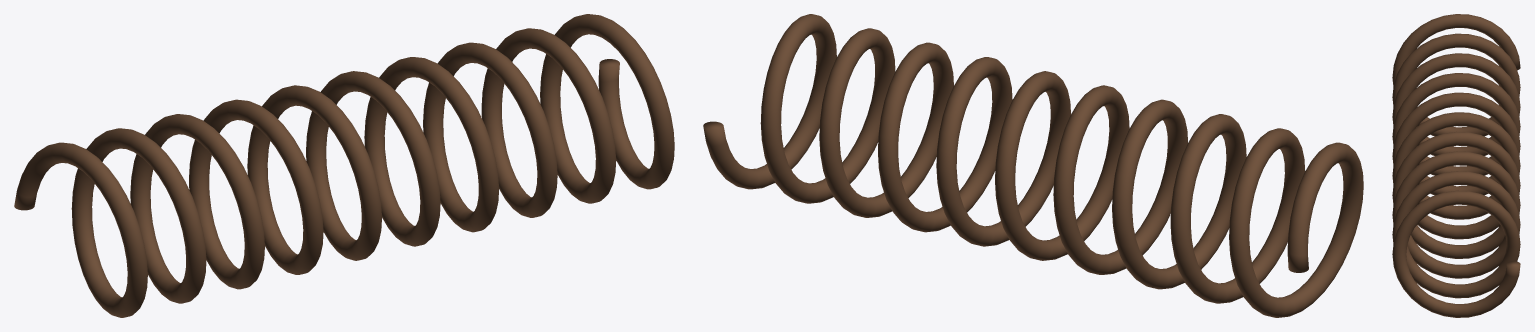
File: spring.obj
The picture shows the model from 3 angles, left to right: view 1: azimuth 30°, elevation 25°; view 2: azimuth 150°, elevation 25°; view 3: azimuth 270°, elevation 25°; orthographic projection. The views are drawn at different scales.
Parts seen in each view (by area): view 1: BézierCircle; view 2: BézierCircle; view 3: BézierCircle.
Boxes of the visible parts, box(x1,y1,x2,y2) form: BézierCircle: box(14, 14, 674, 317); BézierCircle: box(703, 14, 1363, 317); BézierCircle: box(1392, 14, 1520, 317).
Bounding box in the file's own units: 1 × 0.2677 × 0.2677.
Materials: 1 (1 with a texture image).
